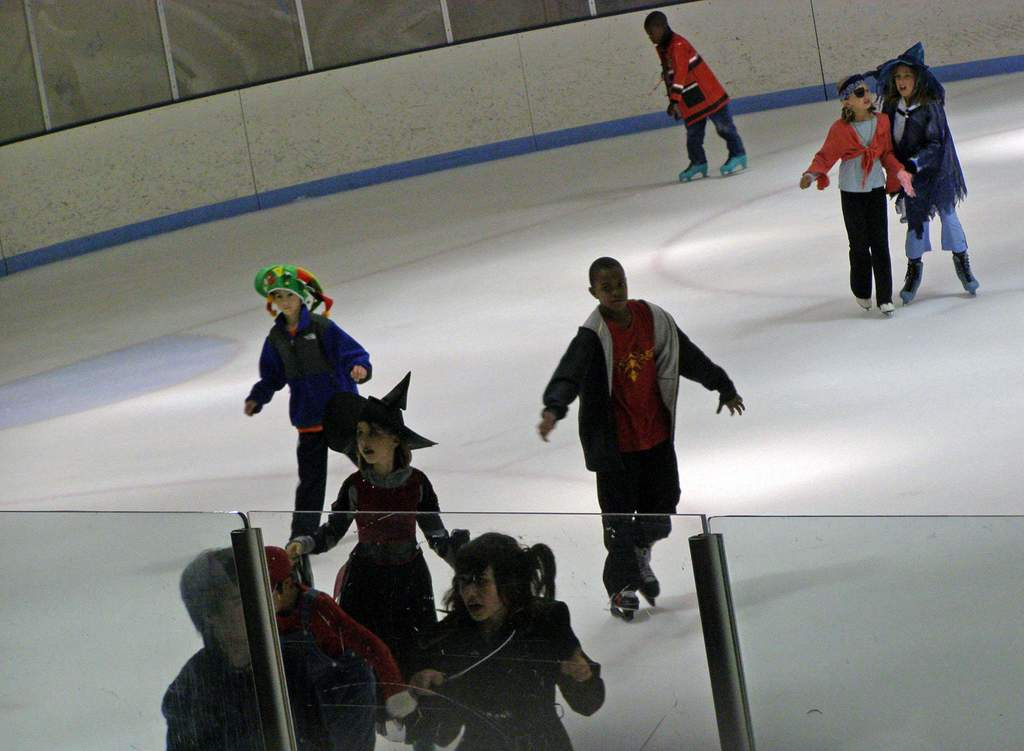face: (212, 574, 280, 645)
